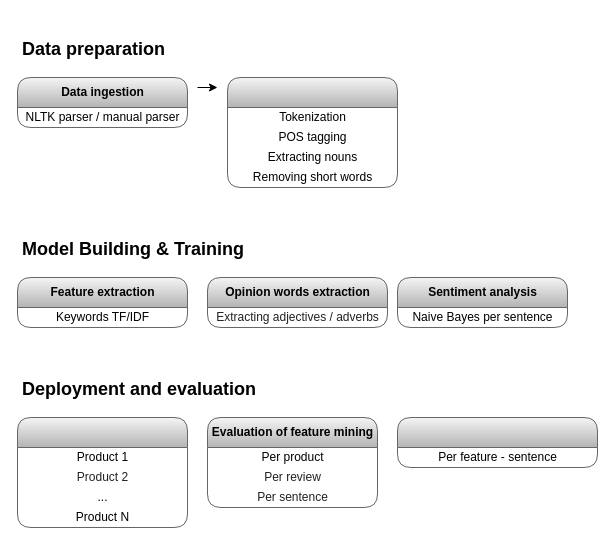
Image size: 615x545. Some labels were removed from this diagram. The shapes that lost their labels are listed below. From the top down, each one's box as (x1, y1, x2, y2) in pixels, then its label:
(226, 76, 398, 188): Preprocessing
(396, 416, 598, 468): Evaluation of sentiment analysis
(16, 416, 188, 528): Deployment
